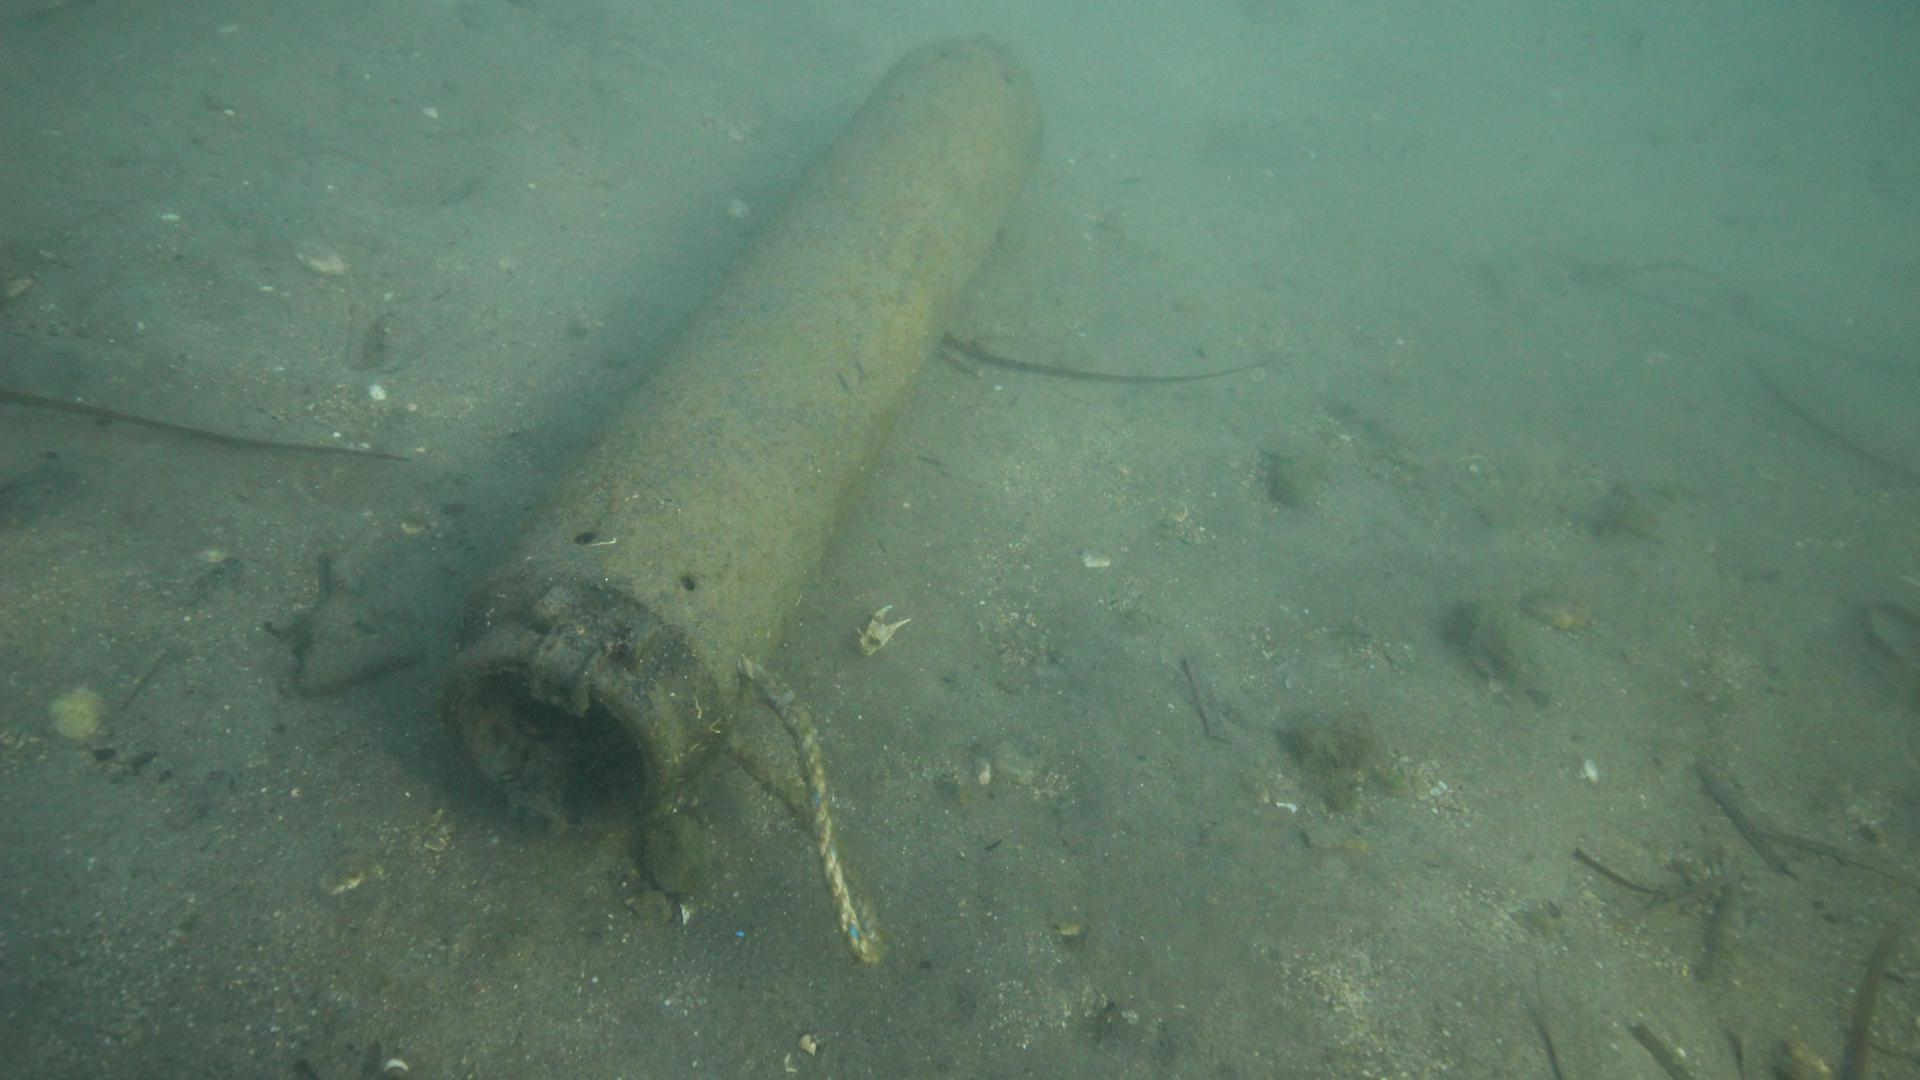eel fish trap: (444, 37, 1048, 839)
rope: (723, 655, 884, 968)
